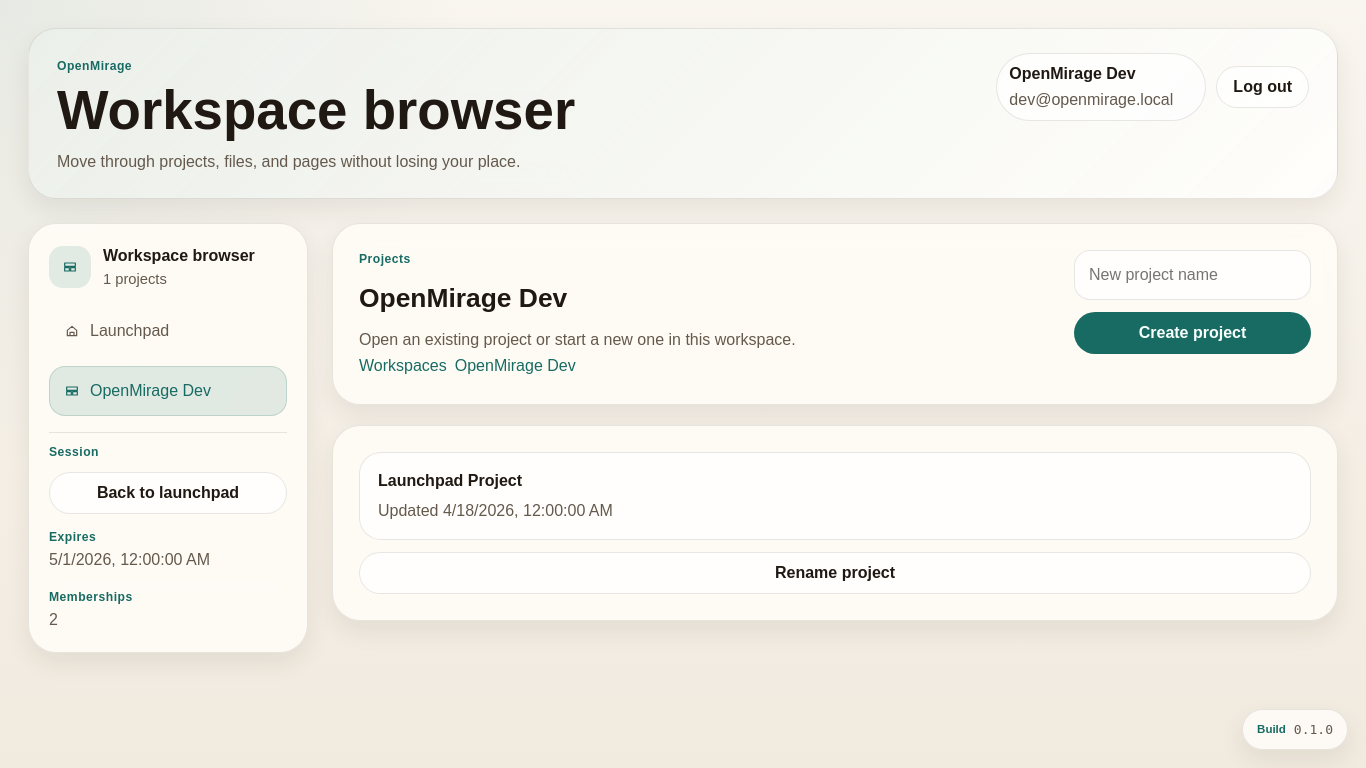
Test: App auth and routing flows › shows fallback workspace form validation
Check: the heading "OpenMirage Dev" is shown, box [359, 283, 567, 313]
Click the button "Create project". click: x=1192, y=333
box: [1074, 312, 1311, 354]
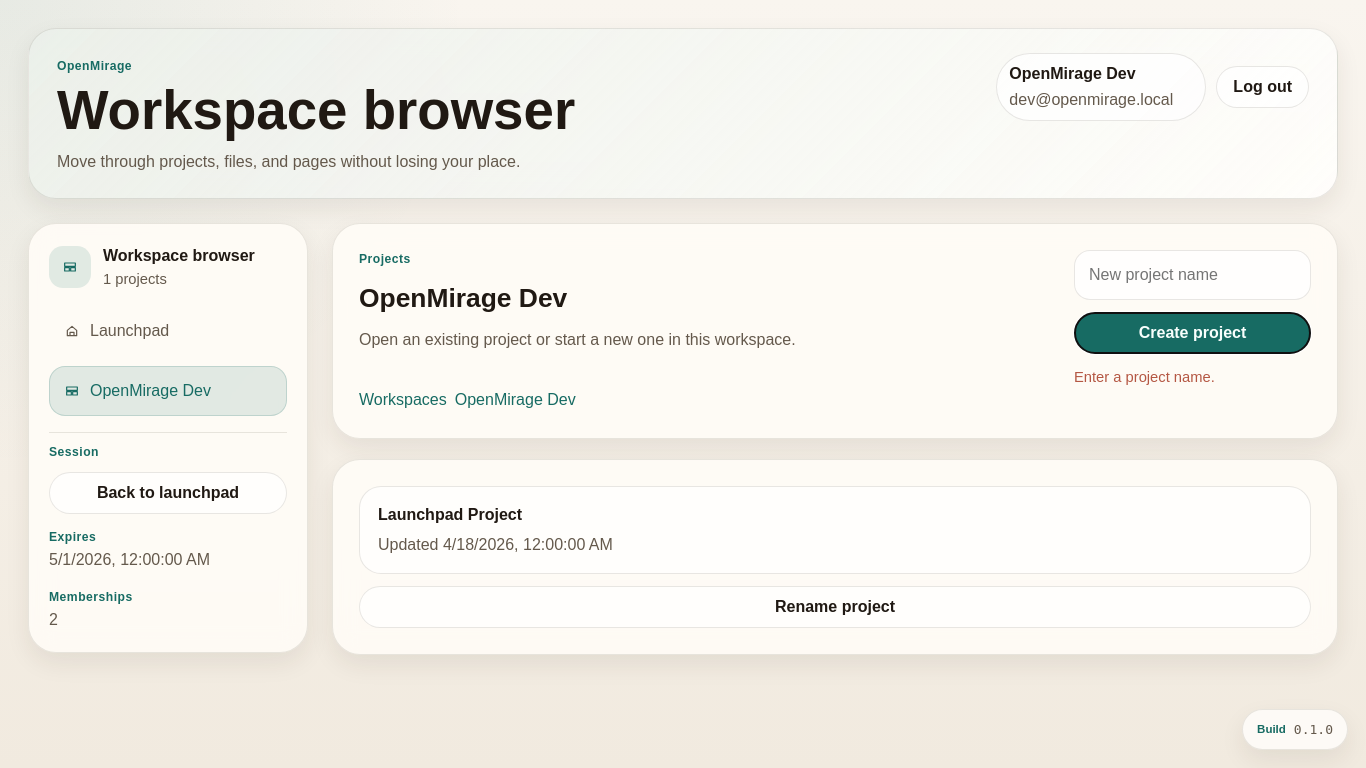
Check: the text "Enter a project name." is shown, box [1074, 369, 1215, 385]
